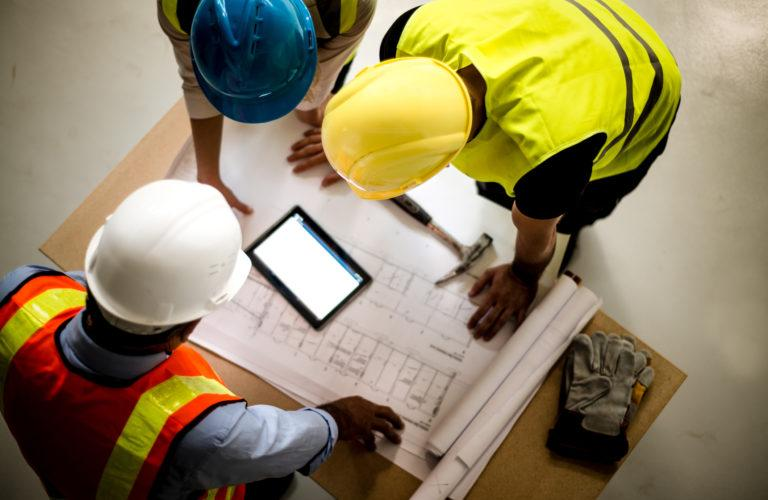helmet: (87, 183, 254, 327), (323, 56, 467, 200), (186, 1, 321, 125)
